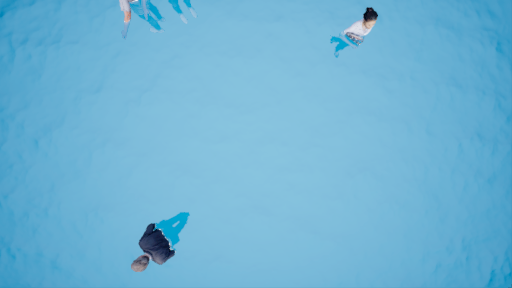person: (133, 209, 195, 273), (324, 2, 385, 65)
